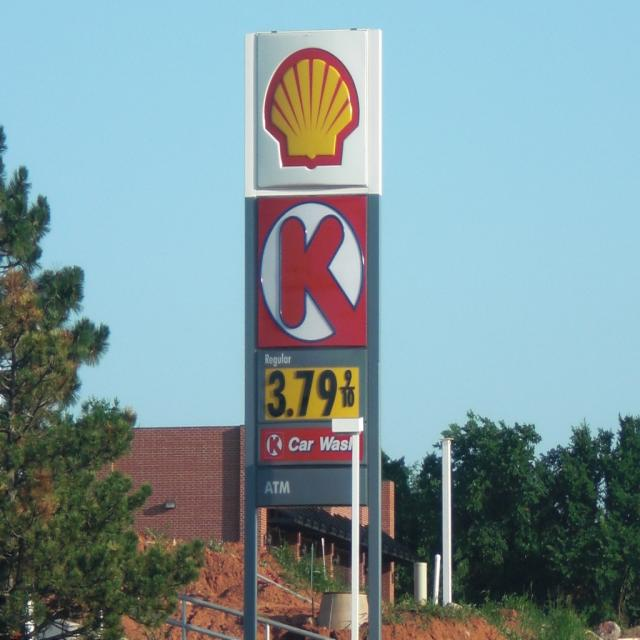shell: (265, 48, 360, 172)
